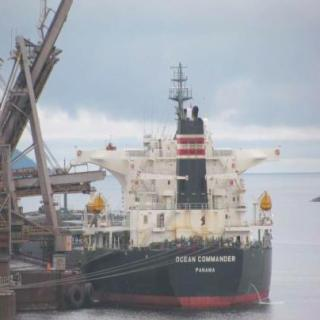Bulk Carrier: (18, 56, 280, 312)
